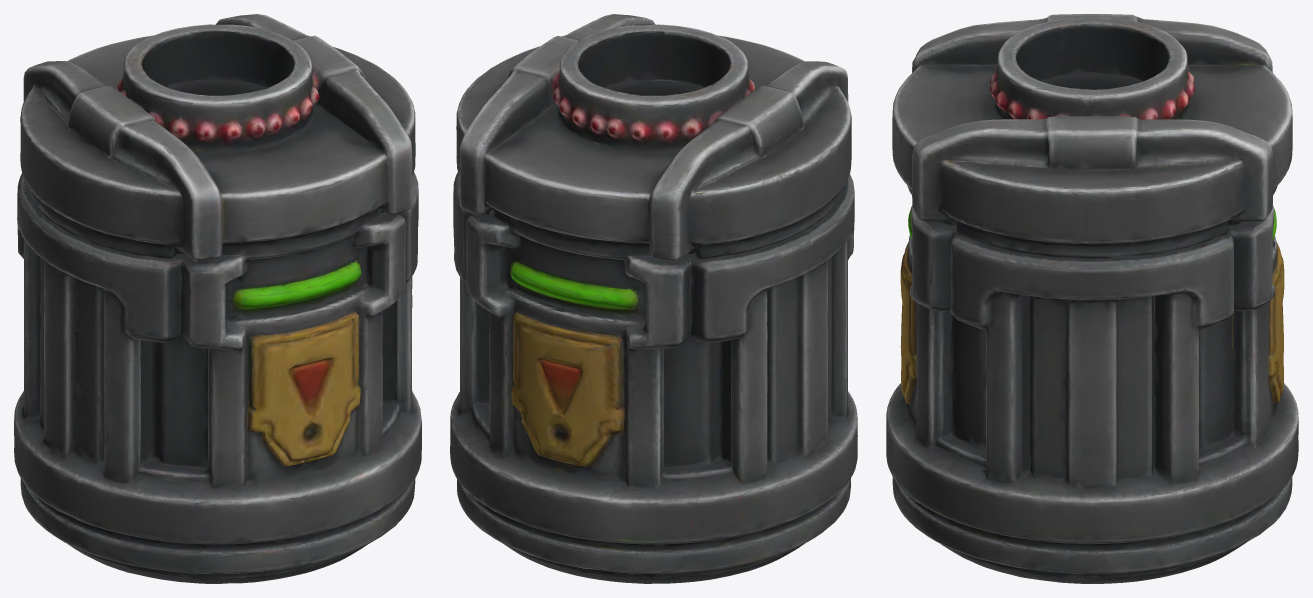
Rendered from BAR1B_2026-08-21T143126.163.glb.
3 views of the same model, side by side, from view 1: azimuth 30°, elevation 25°; view 2: azimuth 150°, elevation 25°; view 3: azimuth 270°, elevation 25° (orthographic).
Parts seen in each view (by area): view 1: world; view 2: world; view 3: world.
Boxes of the visible parts, x1=… form: world: x1=14, y1=14, x2=421, y2=583; world: x1=450, y1=14, x2=857, y2=583; world: x1=886, y1=14, x2=1298, y2=583.
Size of the model in its own units: 0.8197 by 1 by 0.8192.
1 material, 1 textured.
